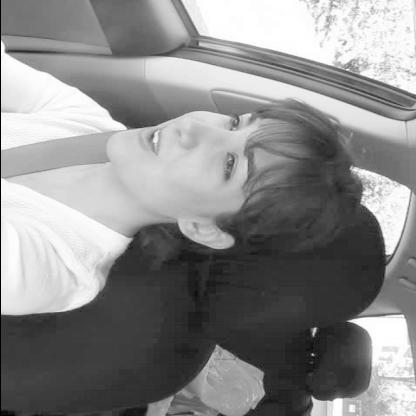seatbelt: (0, 104, 378, 293)
